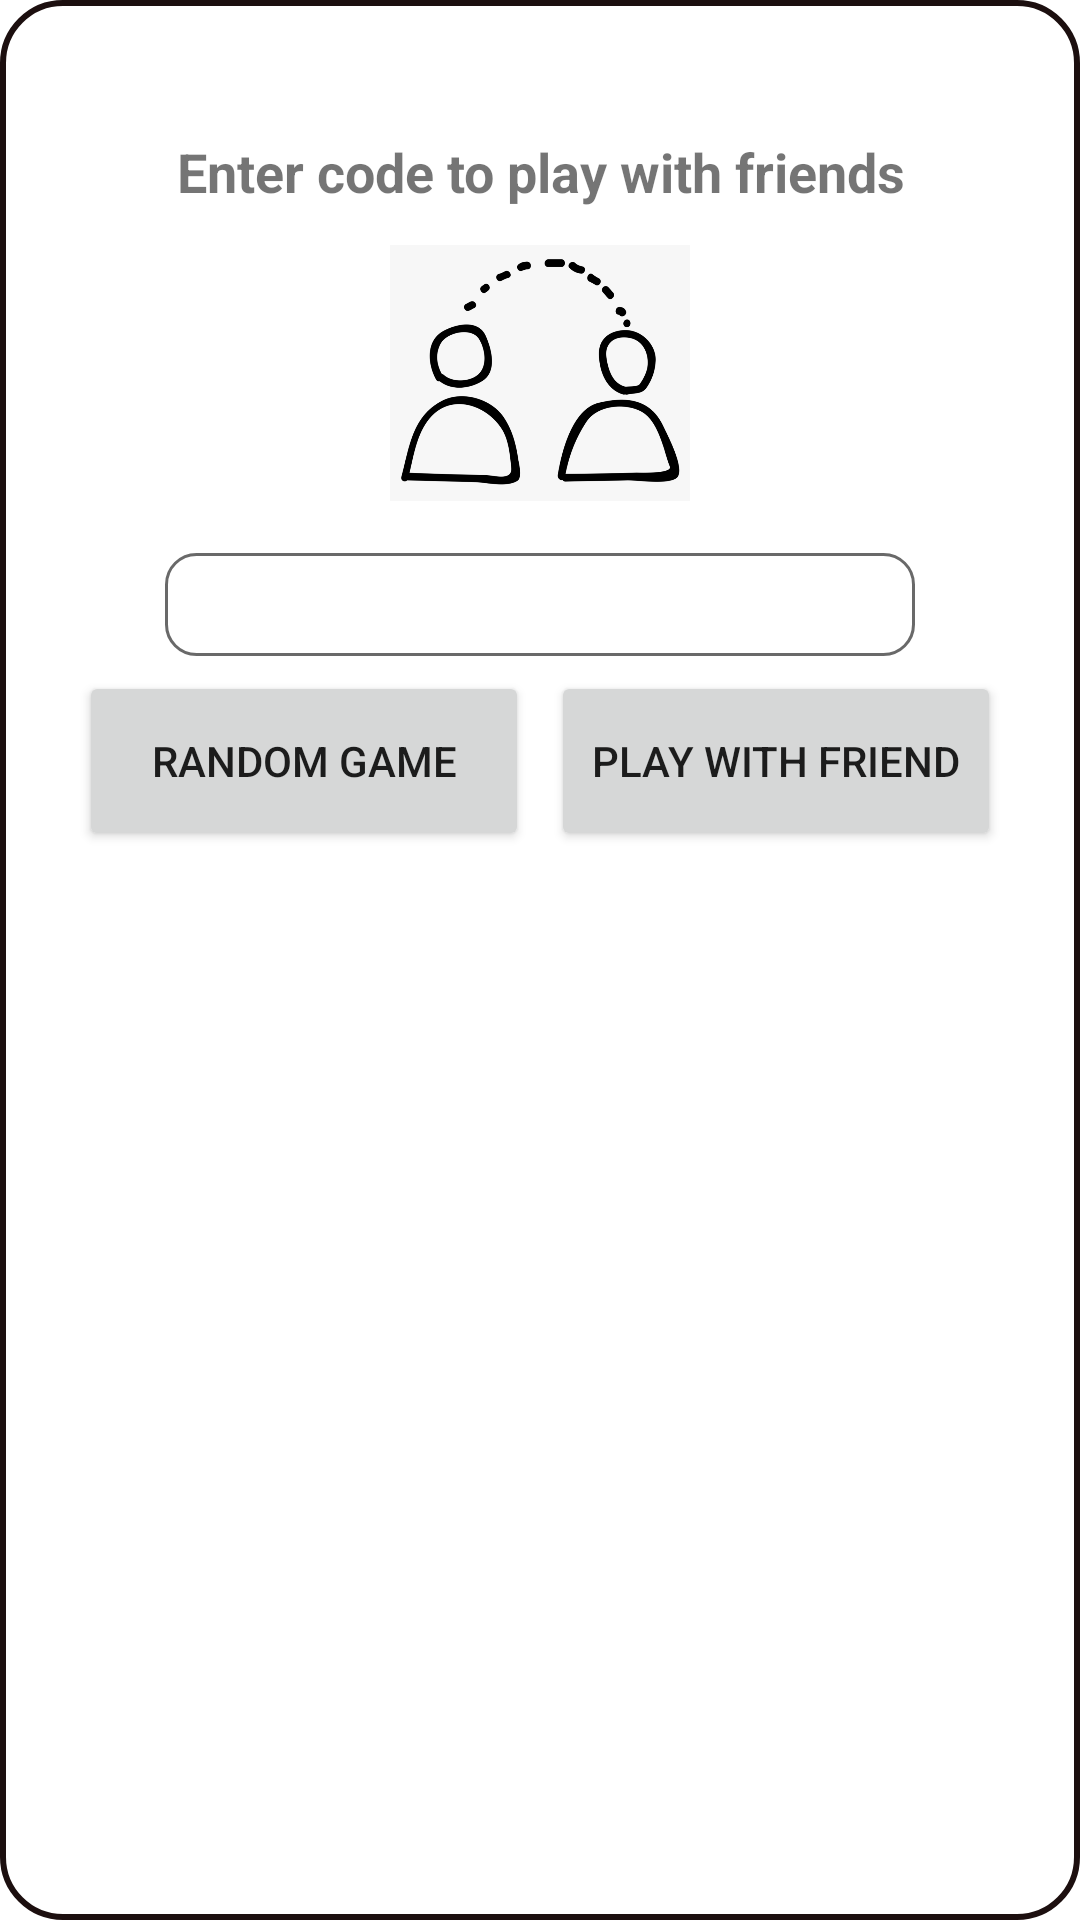

Icons on this 1080 x 1920 Android screen, each with the point to tap as point (x, y):
people connect: point (540, 372)
